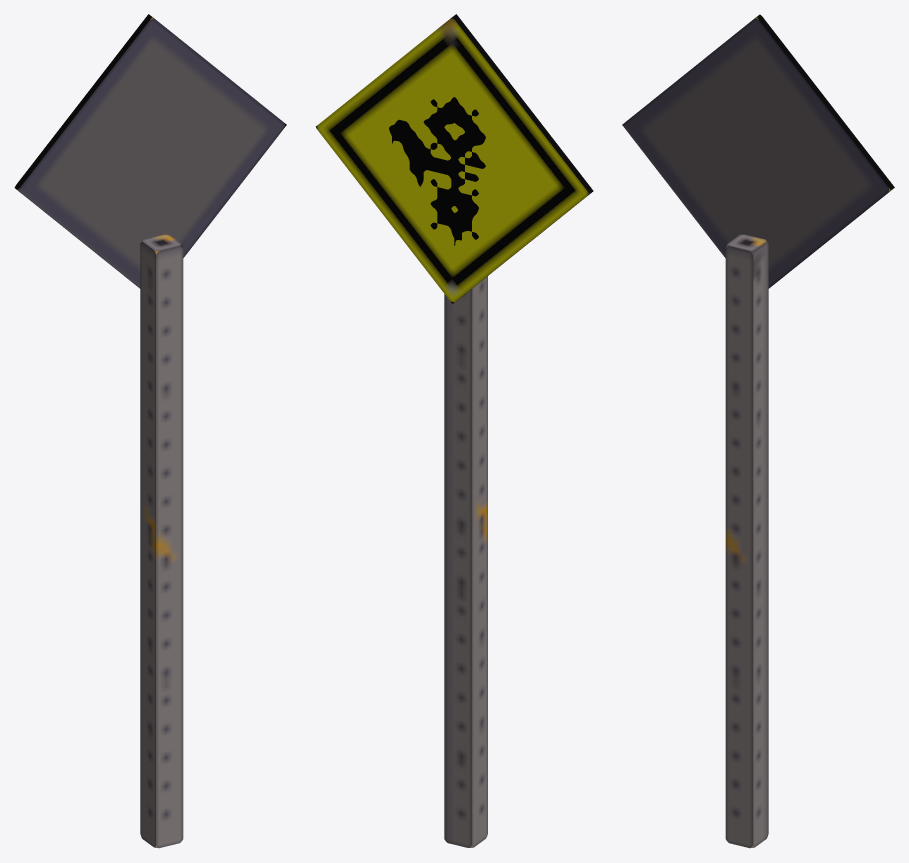
Rendered from PlacaConfig.obj.
3 views of the same model, side by side, from view 1: azimuth 30°, elevation 25°; view 2: azimuth 150°, elevation 25°; view 3: azimuth 330°, elevation 25° (orthographic). The views are drawn at different scales.
Parts seen in each view (by area): view 1: plane, cube; view 2: plane, cube, texto; view 3: plane, cube.
Part boxes in pixels (box(x1,y1,x2,y2)): plane: box(14, 14, 286, 288); cube: box(140, 234, 183, 848); plane: box(316, 14, 593, 303); cube: box(444, 276, 487, 847); texto: box(389, 97, 485, 245); plane: box(622, 14, 894, 288); cube: box(725, 234, 768, 848).
Size of the model in its own units: 0.6187 by 1.79 by 0.0891.
Materials: 1 (1 with a texture image).
